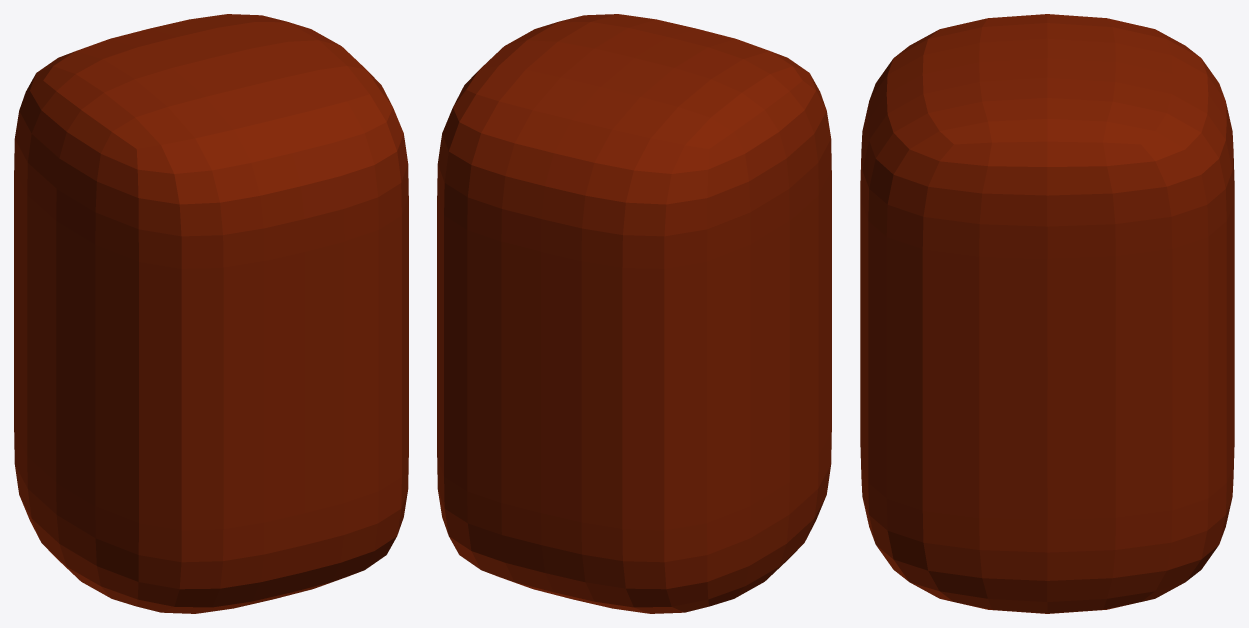
The model's file is punch-target.glb.
3 views of the same model, side by side, from view 1: azimuth 30°, elevation 25°; view 2: azimuth 150°, elevation 25°; view 3: azimuth 270°, elevation 25° (orthographic).
Visible parts, largest first — view 1: Cube; view 2: Cube; view 3: Cube.
Boxes of the visible parts, <box> form: Cube: <box>14,14,408,613</box>; Cube: <box>437,14,831,613</box>; Cube: <box>860,14,1234,613</box>.
Size of the model in its own units: 1.92 by 3.02 by 2.
